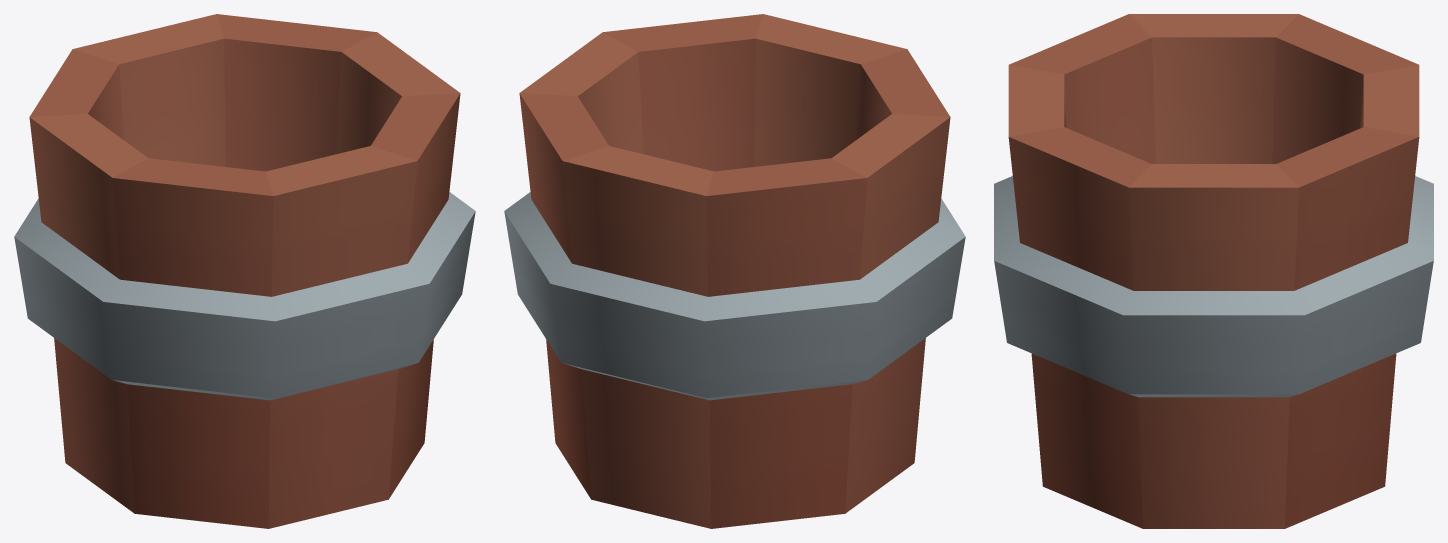
Rendered from bucket_empty.glb.
3 renders of one model, left to right at view 1: azimuth 30°, elevation 25°; view 2: azimuth 150°, elevation 25°; view 3: azimuth 270°, elevation 25°, orthographic. The views are drawn at different scales.
Parts seen in each view (by area): view 1: bucket_empty; view 2: bucket_empty; view 3: bucket_empty.
Boxes of the visible parts, x1,y1,x2,y2 form: bucket_empty: [14, 14, 475, 528]; bucket_empty: [504, 14, 965, 528]; bucket_empty: [994, 14, 1433, 528].
Size of the model in its own units: 0.14 by 0.125 by 0.14.
1 material, 1 textured.
